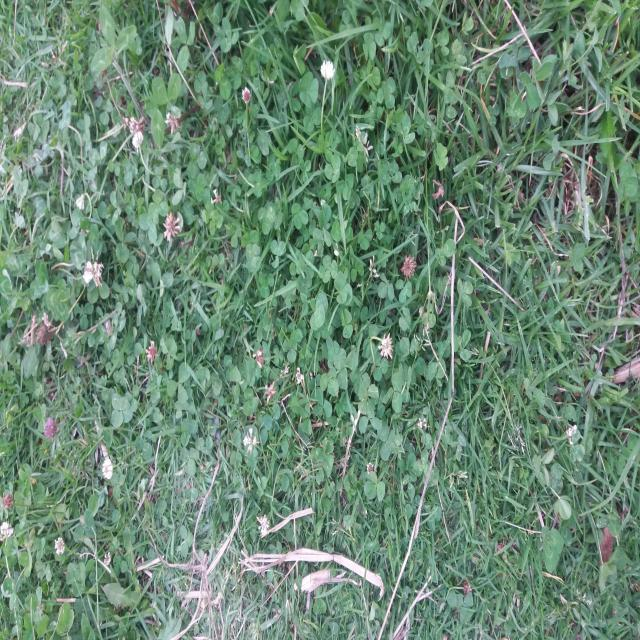Four Leaf Clover: (315, 436, 334, 477), (111, 393, 132, 428), (358, 380, 379, 415), (310, 292, 328, 330), (334, 271, 352, 306)
